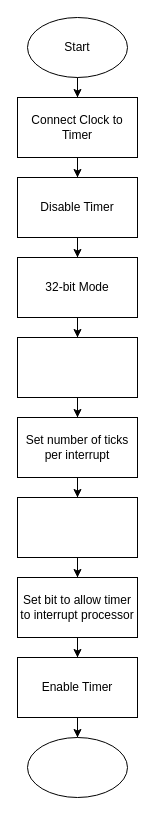
Image size: 155x815. Some labels were removed from this diagram. Each missing label, with the box of its shape:
Enable timer to interrupt: (16, 496, 138, 558)
return: (26, 736, 128, 798)
Set to Periodic Mode: (16, 336, 138, 398)
